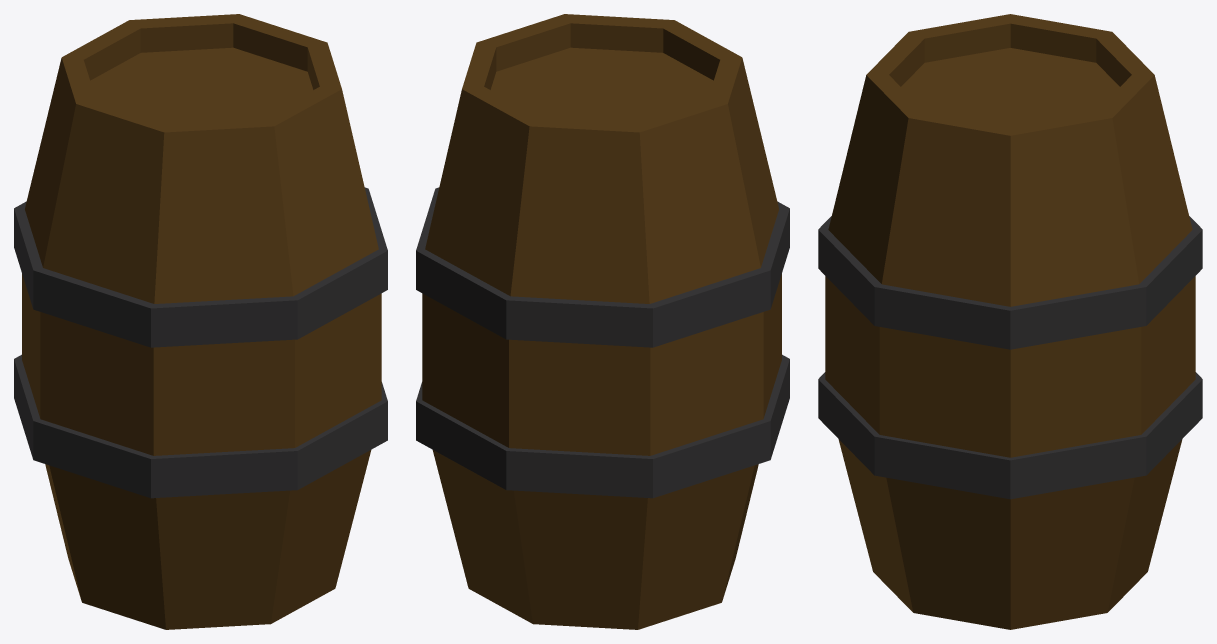
The model's file is barrel_01.fbx.
3 views of the same model, side by side, from view 1: azimuth 30°, elevation 25°; view 2: azimuth 150°, elevation 25°; view 3: azimuth 270°, elevation 25° (orthographic).
Parts seen in each view (by area): view 1: Cylinder, Cylinder.001, Cylinder.002; view 2: Cylinder, Cylinder.001, Cylinder.002; view 3: Cylinder, Cylinder.001, Cylinder.002.
Part boxes in pixels (x1,y1,x2,y2): Cylinder: [22, 14, 381, 629]; Cylinder.001: [14, 187, 387, 347]; Cylinder.002: [14, 354, 387, 498]; Cylinder: [422, 14, 781, 629]; Cylinder.001: [416, 187, 789, 347]; Cylinder.002: [416, 354, 789, 498]; Cylinder: [825, 14, 1195, 629]; Cylinder.001: [818, 216, 1202, 349]; Cylinder.002: [818, 372, 1202, 499].
Bounding box in the file's own units: 200 × 285 × 200.
